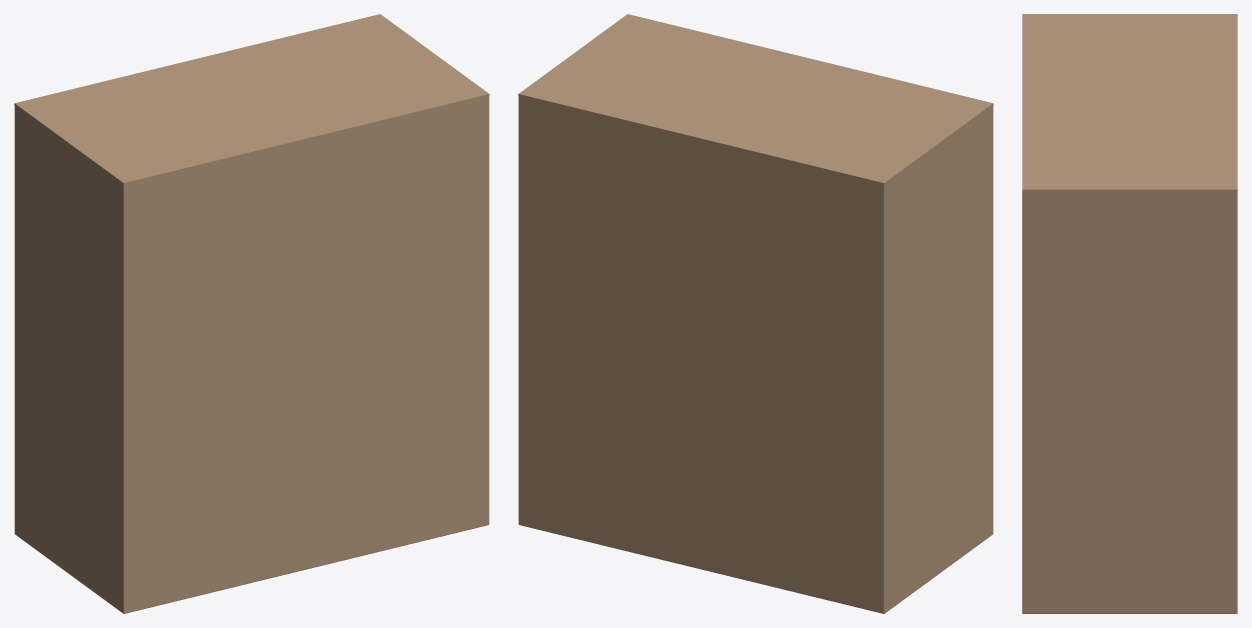
The model's file is minis-container-box-closed.glb.
The picture shows the model from 3 angles, left to right: view 1: azimuth 30°, elevation 25°; view 2: azimuth 150°, elevation 25°; view 3: azimuth 270°, elevation 25°; orthographic projection.
Parts seen in each view (by area): view 1: mbox_body, mbox_lid; view 2: mbox_body, mbox_lid; view 3: mbox_body, mbox_lid.
Part boxes in pixels (x1,y1,x2,y2): mbox_body: (14, 95, 489, 613); mbox_lid: (14, 14, 489, 184); mbox_body: (518, 95, 993, 613); mbox_lid: (518, 14, 993, 184); mbox_body: (1022, 190, 1237, 613); mbox_lid: (1022, 14, 1237, 191).
Bounding box in the file's own units: 0.087 × 0.098 × 0.045.
